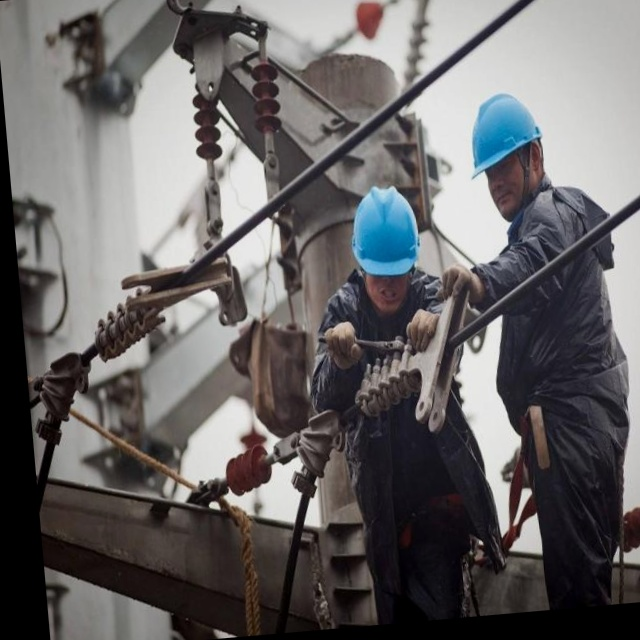Con_Casco: (468, 91, 547, 220), (349, 184, 424, 311)
